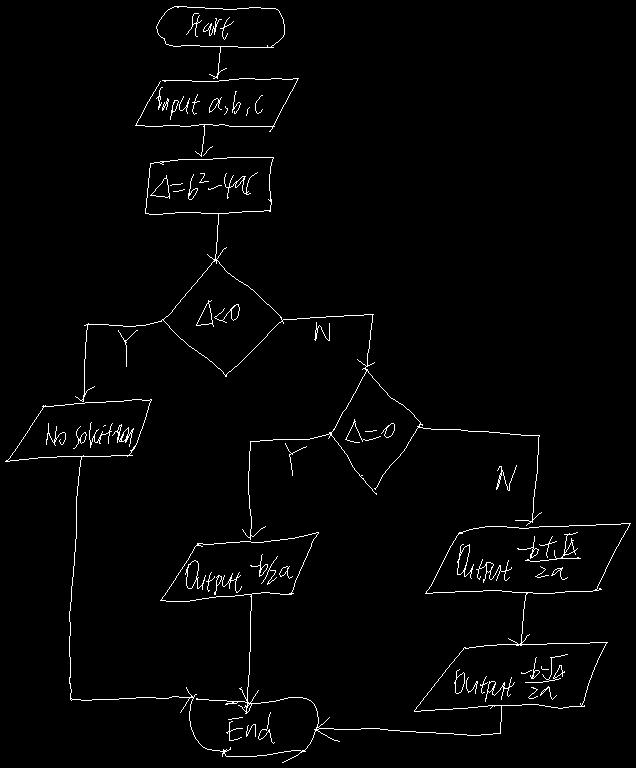arrow: (69, 455, 193, 712), (417, 426, 541, 525), (242, 432, 330, 539), (75, 321, 161, 401), (314, 705, 501, 741), (283, 314, 374, 369), (238, 595, 258, 713), (508, 592, 529, 645), (207, 213, 226, 261), (209, 46, 226, 78), (195, 124, 212, 156)
data: (425, 523, 630, 593), (414, 642, 607, 711), (160, 532, 318, 601), (5, 399, 151, 461), (135, 78, 298, 131)
decision: (161, 259, 283, 376), (328, 368, 422, 494)
process: (145, 157, 273, 214)
terminator: (189, 694, 318, 762), (156, 6, 284, 47)
text: (457, 532, 580, 582), (454, 654, 567, 701), (185, 554, 292, 594), (156, 87, 262, 119), (150, 172, 257, 199), (46, 422, 133, 448), (226, 712, 274, 743), (186, 13, 233, 39), (345, 419, 394, 442), (196, 300, 239, 326), (118, 330, 137, 366), (285, 443, 306, 475), (496, 465, 516, 490), (314, 322, 329, 340)
